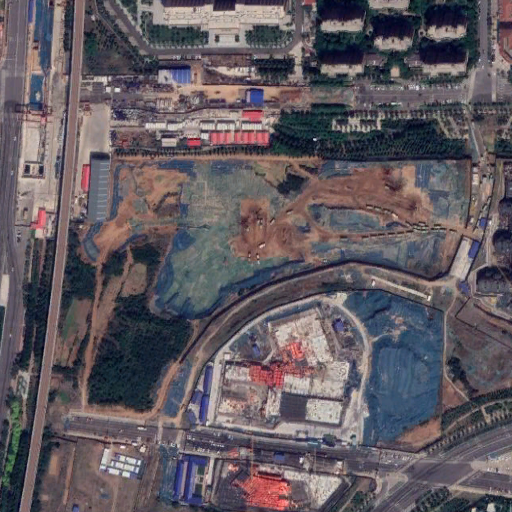cw: (83, 150, 475, 455)
